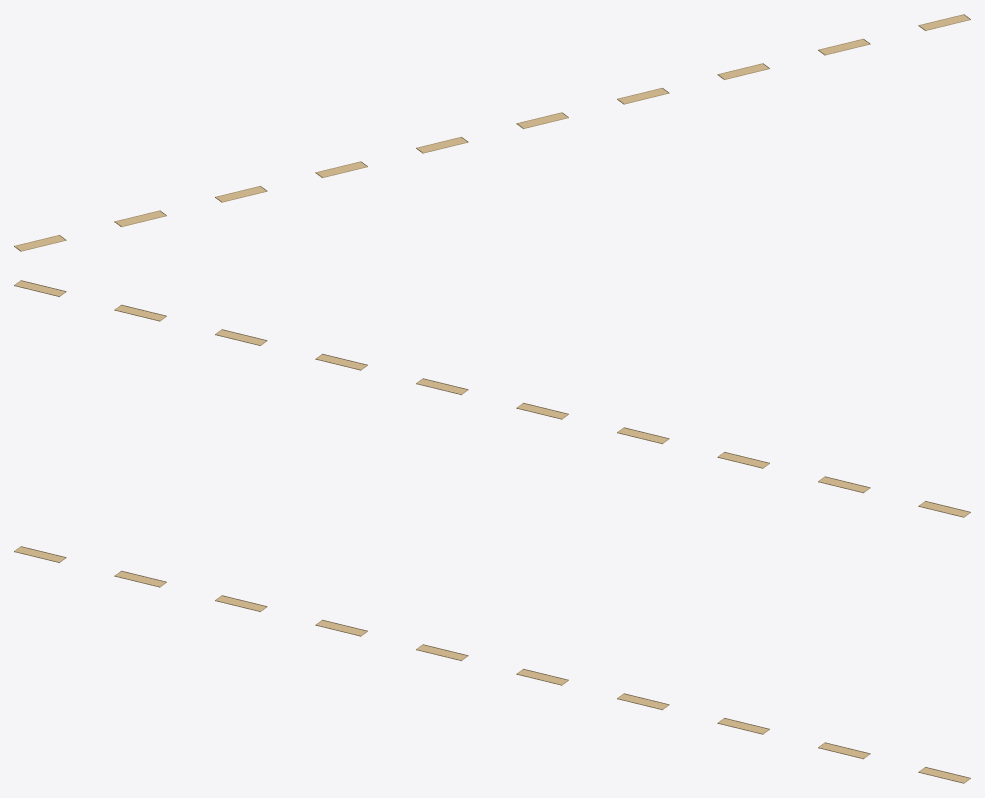
Rendered from corridorLampArray.FBX.
The picture shows the model from 3 angles, top to bottom: view 1: azimuth 30°, elevation 25°; view 2: azimuth 150°, elevation 25°; view 3: azimuth 330°, elevation 25°; orthographic projection.
Bounding box in the file's own units: 1005 × 0.8661 × 12.76.
